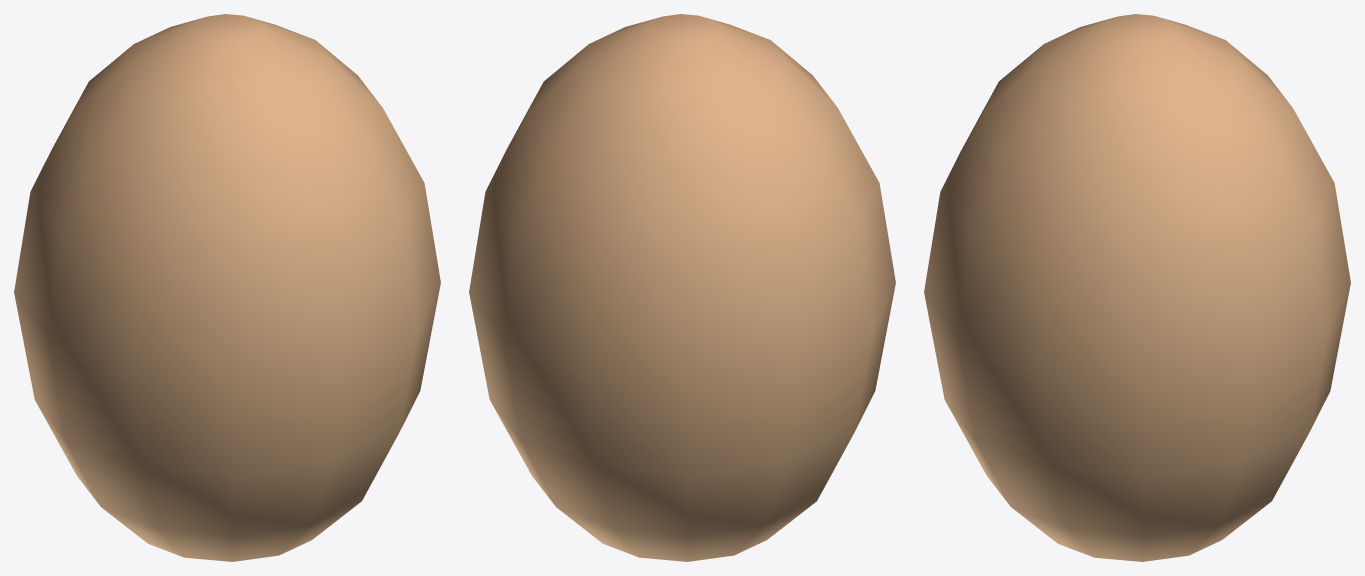
The model's file is Egg.glb.
3 renders of one model, left to right at view 1: azimuth 30°, elevation 25°; view 2: azimuth 150°, elevation 25°; view 3: azimuth 270°, elevation 25°, orthographic.
Visible parts, largest first — view 1: Egg; view 2: Egg; view 3: Egg.
Boxes of the visible parts, <box> form: Egg: <box>14,14,440,561</box>; Egg: <box>469,14,895,561</box>; Egg: <box>924,14,1350,561</box>.
Size of the model in its own units: 0.0529 by 0.0698 by 0.0529.
1 material, 1 textured.
